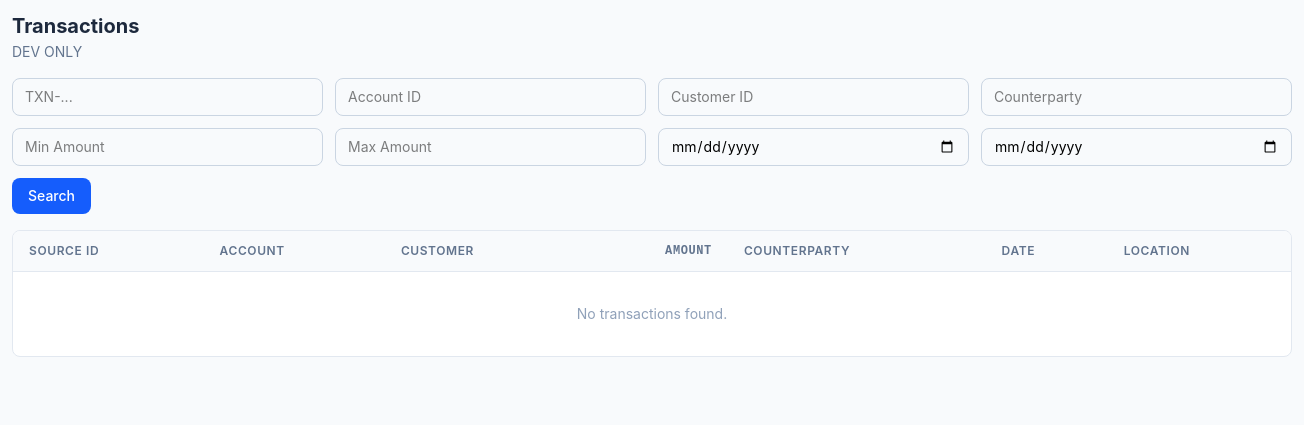
Test: TransactionsPage › displays all transactions in DataTable
Click the button "Search": (52, 196) [12, 178, 91, 214]
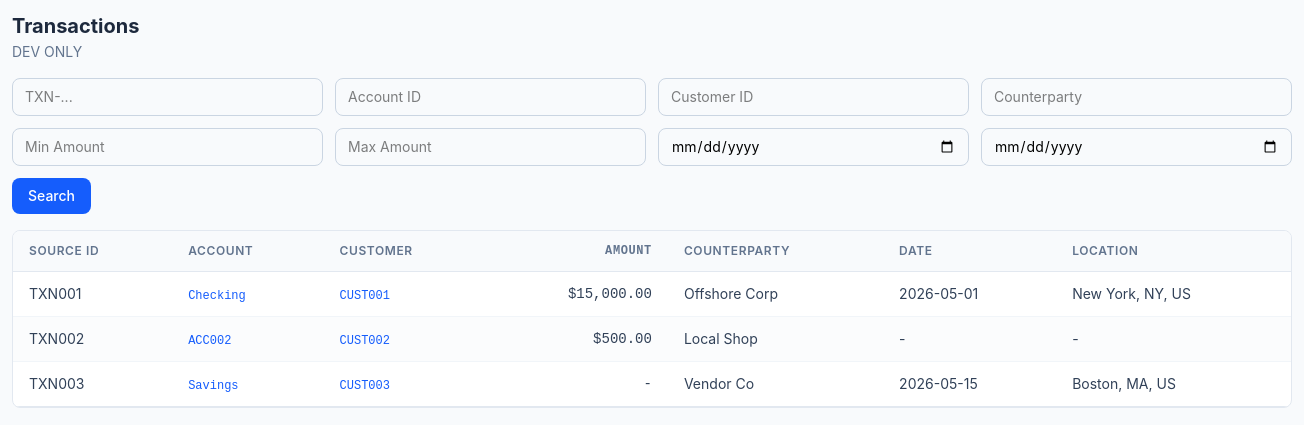
expect the text "TXN001" is shown: met, box [13, 272, 172, 316]
expect the text "TXN002" is shown: met, box [13, 316, 172, 362]
expect the text "TXN003" is shown: met, box [13, 362, 172, 406]
